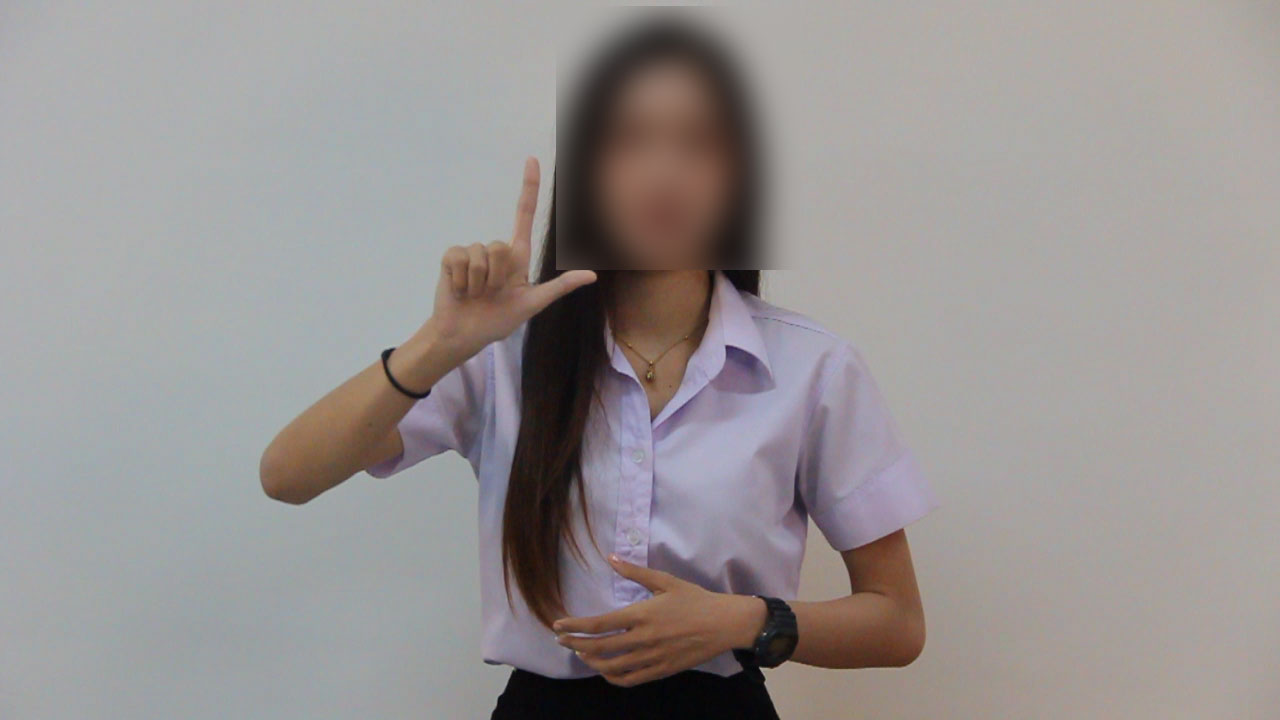lor: (397, 148, 614, 356)
